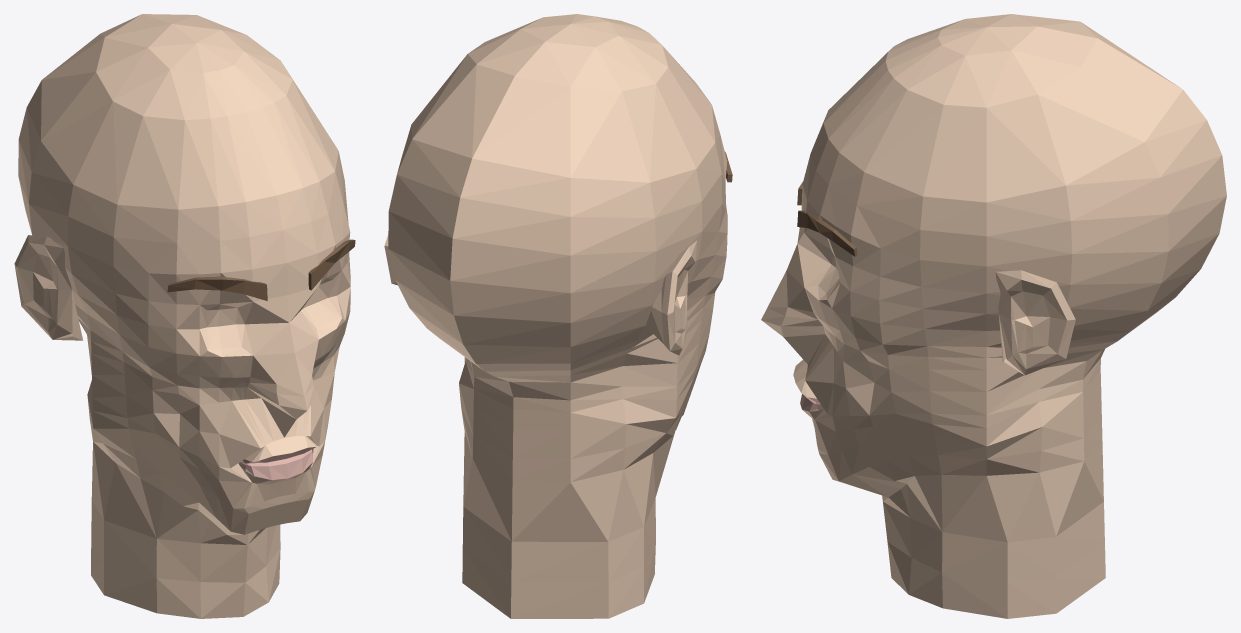
File: head_tri_sdf.glb
The picture shows the model from 3 angles, left to right: view 1: azimuth 30°, elevation 25°; view 2: azimuth 150°, elevation 25°; view 3: azimuth 270°, elevation 25°; orthographic projection. The views are drawn at different scales.
Parts seen in each view (by area): view 1: Head_Main, Ears, Eyebrow_R, Eyebrow_L; view 2: Head_Main, Ears; view 3: Head_Main, Ears, Eyebrow_L.
Part boxes in pixels (<box>): Head_Main: <box>18,14,350,618</box>; Ears: <box>14,235,83,340</box>; Eyebrow_R: <box>167,276,267,300</box>; Eyebrow_L: <box>308,239,355,290</box>; Head_Main: <box>388,14,727,618</box>; Ears: <box>384,235,697,355</box>; Head_Main: <box>761,14,1226,618</box>; Ears: <box>995,270,1075,375</box>; Eyebrow_L: <box>797,210,857,256</box>.
Size of the model in its own units: 0.1568 by 0.2886 by 0.2209.
